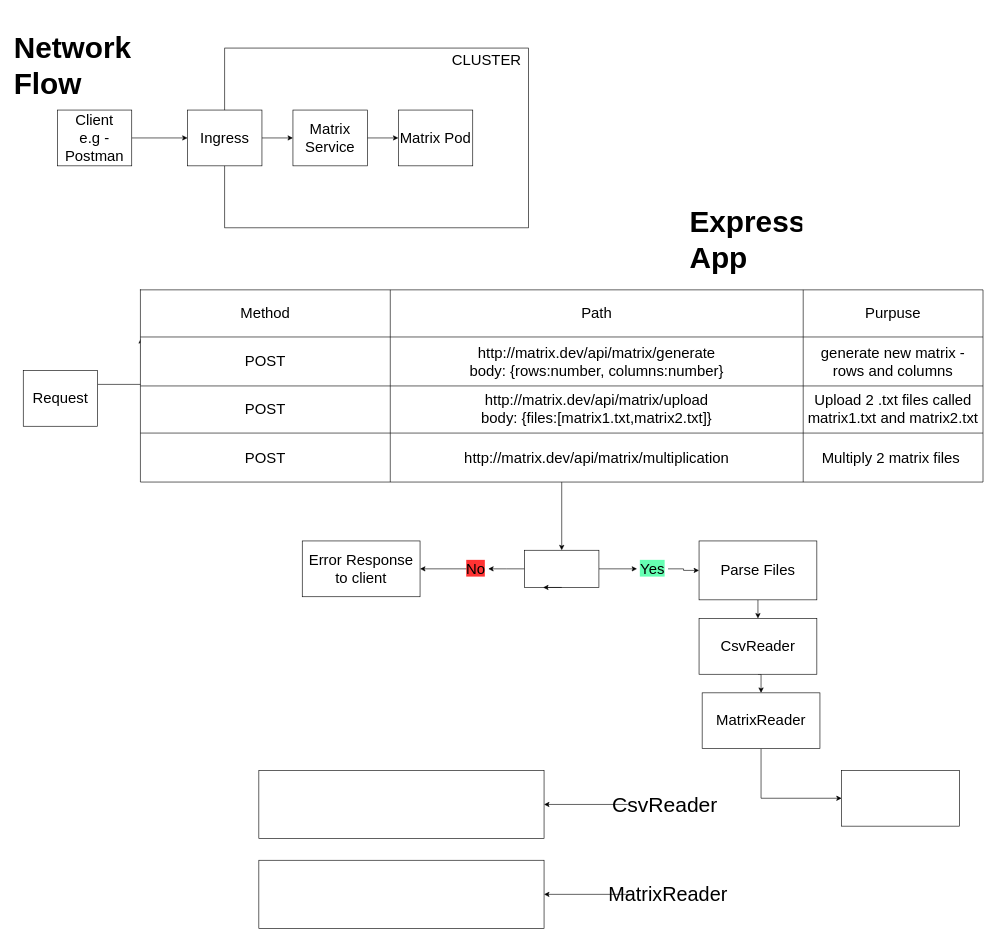
Image size: 994x939. Some labels were removed from this diagram. The box of each missing label's shape, as (x1, y1, x2, y2) in pixels:
Multiply and Return Result to client: (841, 770, 959, 826)
Read Data from file and map it line by line: (258, 770, 544, 839)
Take the map data from CsvFileReader and convert to matrix object: (258, 860, 544, 928)
Validator: (524, 550, 599, 587)
